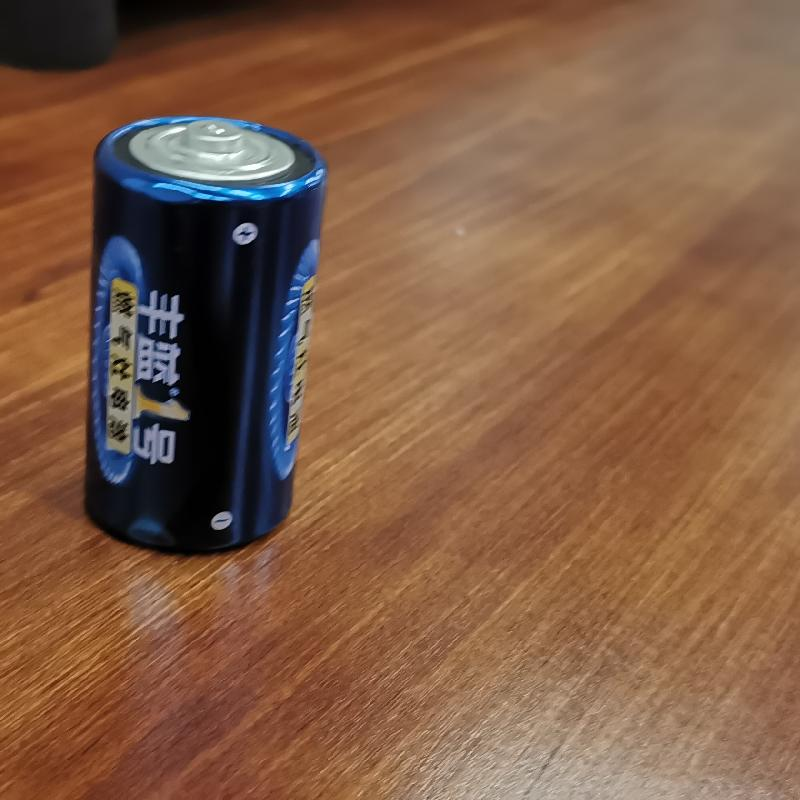battery: (70, 104, 329, 562)
